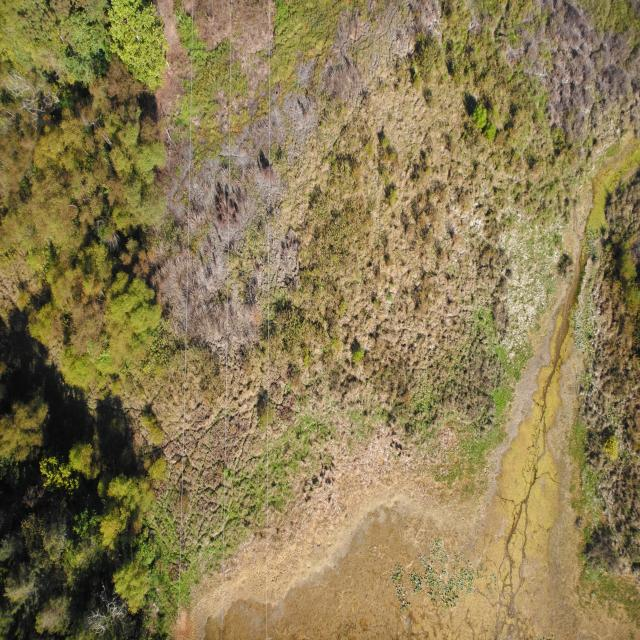Area of Interest: (11, 370, 166, 630), (5, 2, 165, 104)
